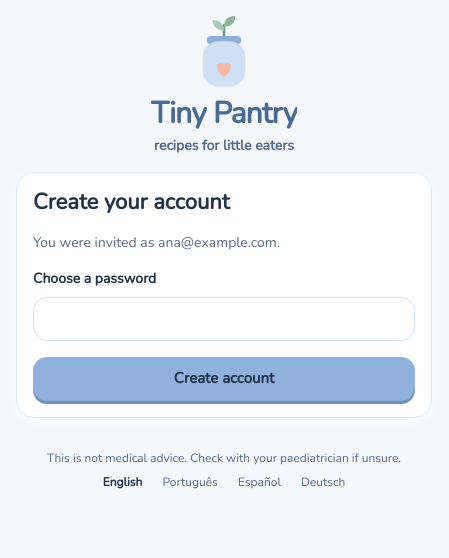
Test: a short-password error on the signup page changes language with the page
This screenshot has width=449, height=558.
Type "abc" into the password field labelled "Choose a password".
click(224, 318); type("abc")  # box [33,296,415,340]
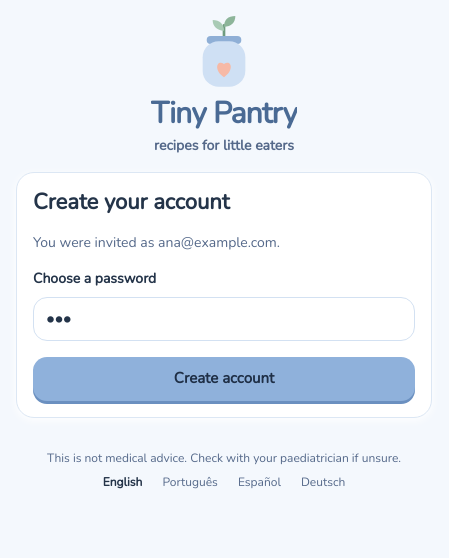
Click the button "Create account".
click(224, 378)  # box [33,356,415,400]
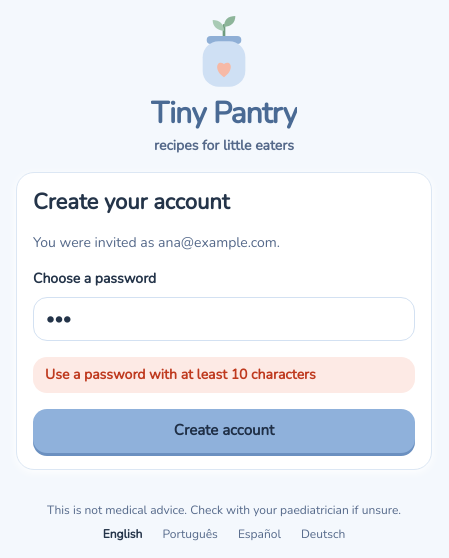
Expected: the message reads "Use a password with at least 10 characters", [45,364,316,384]
Click the button "Português".
click(190, 534)  # box [158,526,222,542]
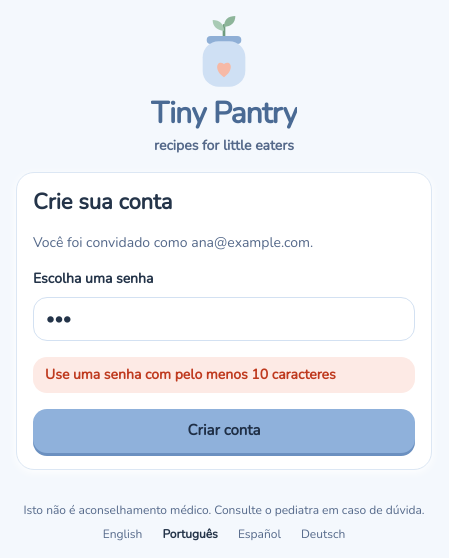
Expected: the message reads "Use uma senha com pelo menos 10 caracteres", [45,364,336,384]
